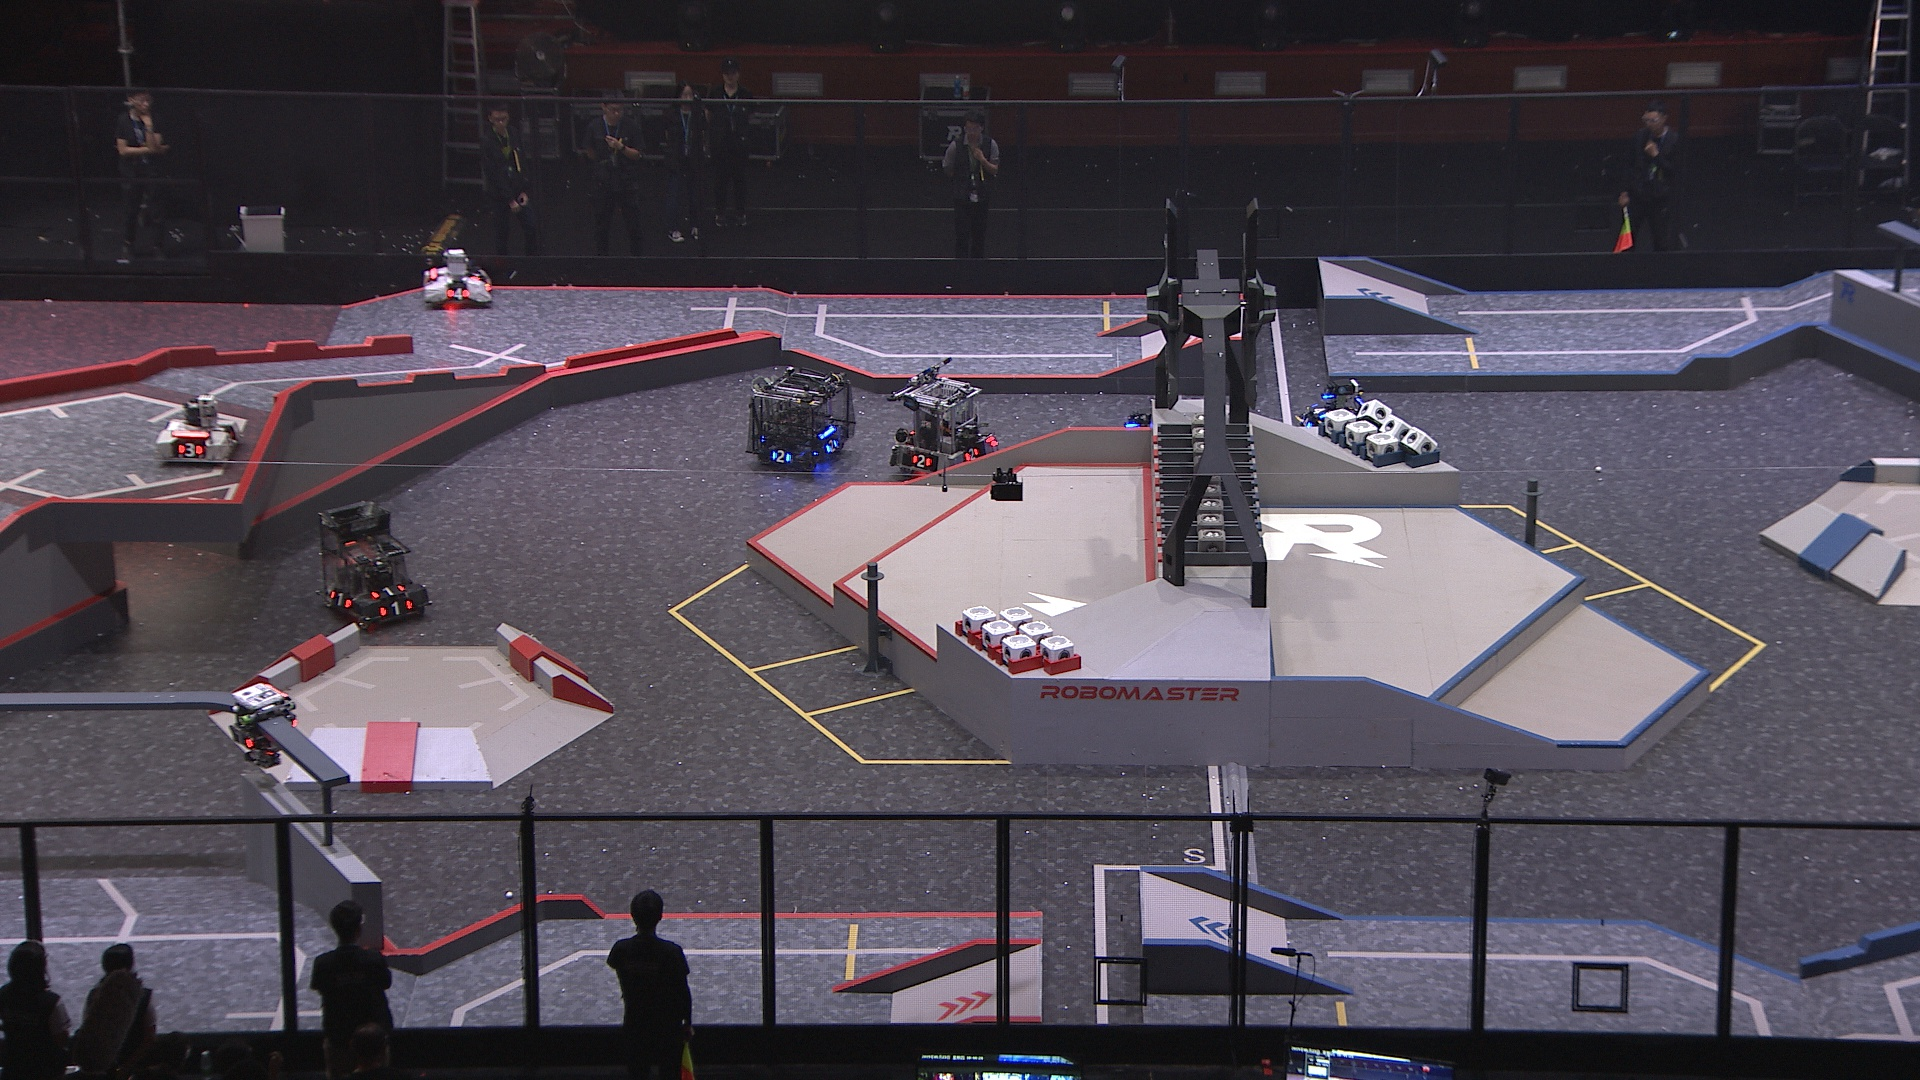armor: (228, 723, 258, 752), (367, 580, 409, 600), (378, 600, 415, 621), (327, 585, 353, 612), (174, 439, 204, 462), (963, 443, 984, 465), (770, 444, 793, 465), (1309, 400, 1332, 419), (465, 264, 485, 285), (911, 452, 934, 471), (444, 285, 469, 301), (825, 436, 843, 455), (1300, 413, 1316, 433)
car: (315, 498, 433, 629), (746, 365, 858, 476), (891, 372, 997, 480), (154, 392, 248, 465), (1298, 376, 1387, 440), (419, 245, 493, 311)
watcher: (224, 680, 301, 770)
